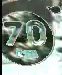Speed limit: (0, 6, 54, 65)
